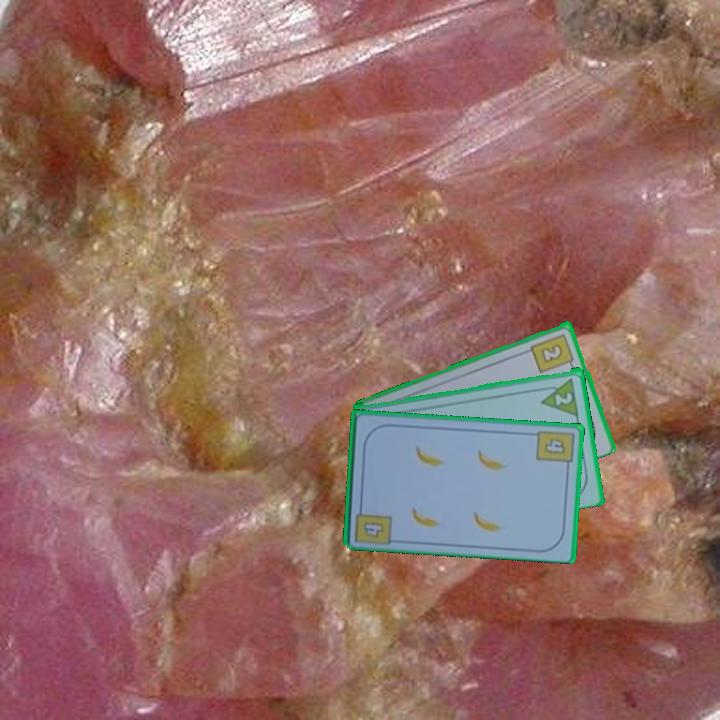2b: (527, 330, 577, 375)
2p: (552, 388, 576, 408)
4b: (533, 426, 576, 472), (360, 517, 387, 540)
